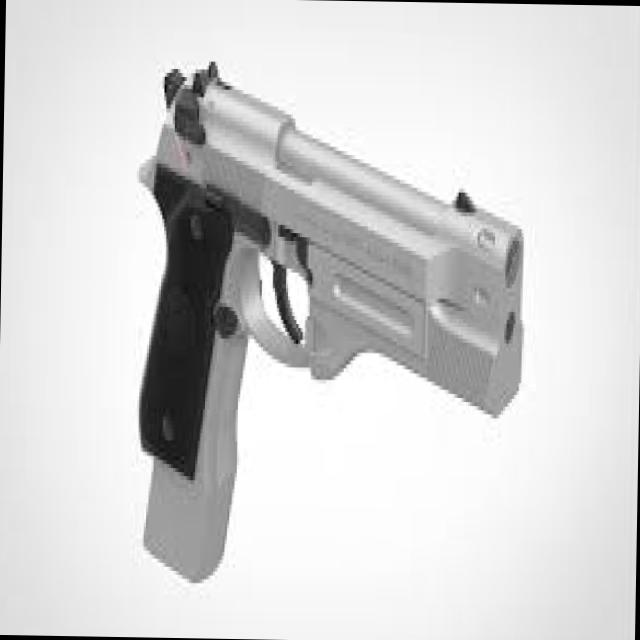Gun: (85, 57, 533, 623)
